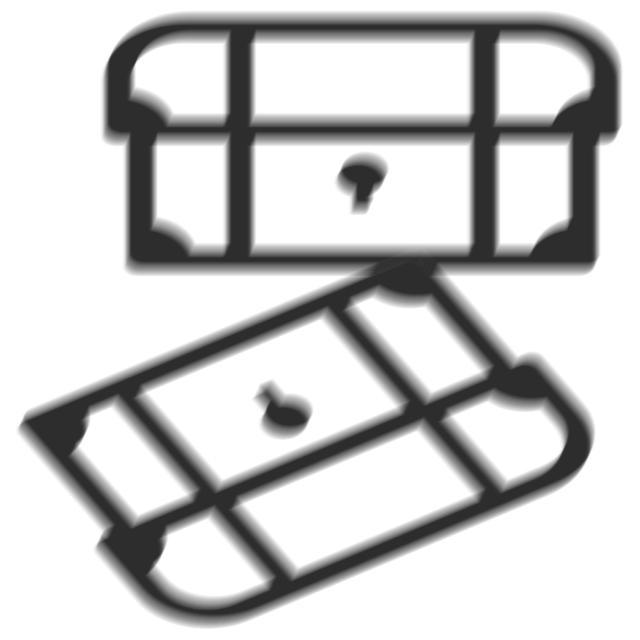treasure_box: (7, 238, 605, 637), (91, 4, 628, 281)
